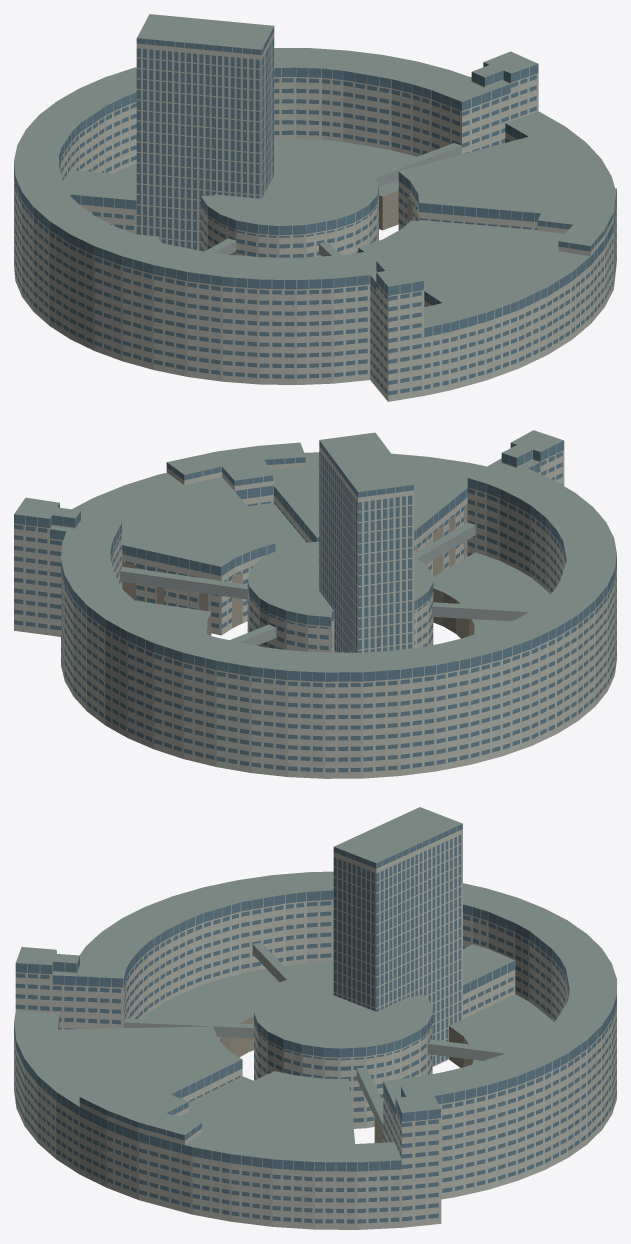
Rendered from maison-de-la-radio-near.glb.
The picture shows the model from 3 angles, top to bottom: view 1: azimuth 30°, elevation 25°; view 2: azimuth 150°, elevation 25°; view 3: azimuth 270°, elevation 25°; orthographic projection.
Parts seen in each view (by area): view 1: maison-de-la-radio-0-frame, maison-de-la-radio-0-roof, maison-de-la-radio-0-glass, maison-de-la-radio-0-connector, maison-de-la-radio-0-studio; view 2: maison-de-la-radio-0-frame, maison-de-la-radio-0-roof, maison-de-la-radio-0-glass, maison-de-la-radio-0-connector, maison-de-la-radio-0-studio; view 3: maison-de-la-radio-0-roof, maison-de-la-radio-0-frame, maison-de-la-radio-0-glass, maison-de-la-radio-0-connector, maison-de-la-radio-0-studio.
Part boxes in pixels (x1,y1,x2,y2): maison-de-la-radio-0-frame: (14,32,616,401); maison-de-la-radio-0-roof: (14,14,616,327); maison-de-la-radio-0-glass: (14,26,616,395); maison-de-la-radio-0-connector: (214,146,461,256); maison-de-la-radio-0-studio: (379,191,419,230); maison-de-la-radio-0-frame: (14,441,616,778); maison-de-la-radio-0-roof: (14,430,616,672); maison-de-la-radio-0-glass: (14,440,616,772); maison-de-la-radio-0-connector: (120,525,528,645); maison-de-la-radio-0-studio: (122,505,474,638); maison-de-la-radio-0-roof: (14,807,616,1162); maison-de-la-radio-0-frame: (14,824,616,1229); maison-de-la-radio-0-glass: (14,824,616,1223); maison-de-la-radio-0-connector: (124,944,504,1134); maison-de-la-radio-0-studio: (219,1016,473,1142).
Bounding box in the file's own units: 161 × 68 × 162.
